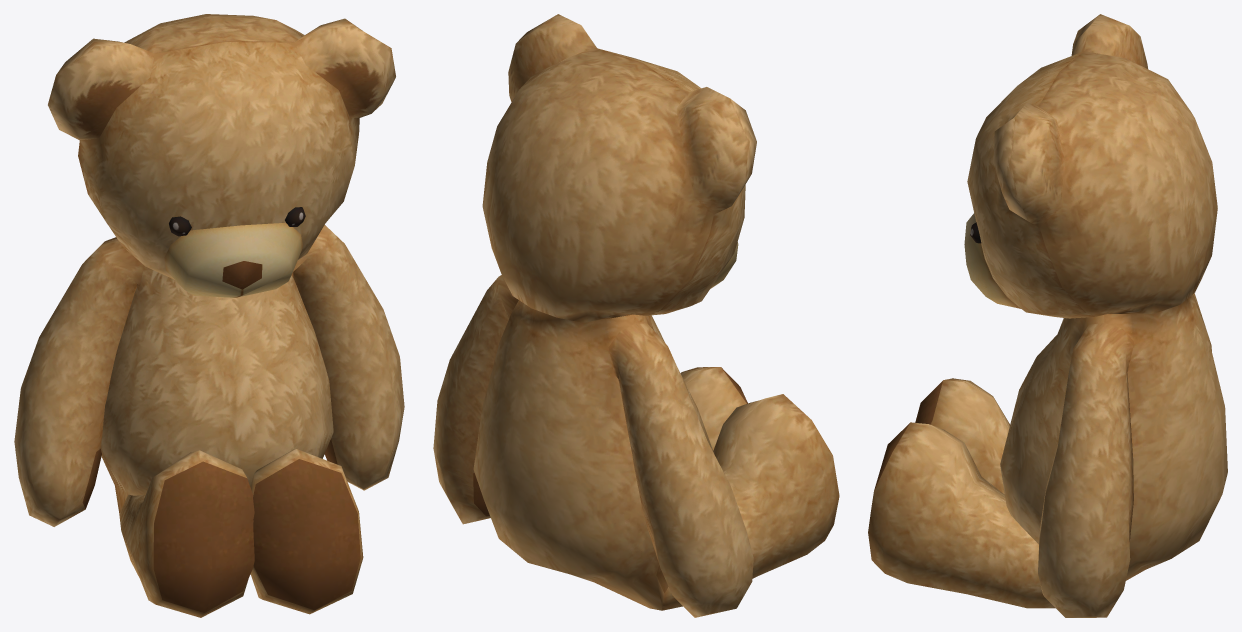
Rendered from teddy_bear.glb.
The picture shows the model from 3 angles, left to right: view 1: azimuth 30°, elevation 25°; view 2: azimuth 150°, elevation 25°; view 3: azimuth 270°, elevation 25°; orthographic projection. The views are drawn at different scales.
Visible parts, largest first — view 1: Teddy_TeddyBear.001_0; view 2: Teddy_TeddyBear.001_0; view 3: Teddy_TeddyBear.001_0.
Boxes of the visible parts, bbox=[...] form: Teddy_TeddyBear.001_0: bbox=[14, 14, 404, 617]; Teddy_TeddyBear.001_0: bbox=[433, 14, 839, 617]; Teddy_TeddyBear.001_0: bbox=[868, 14, 1227, 617].
Bounding box in the file's own units: 13.37 × 19.84 × 12.56.
1 material, 1 textured.
